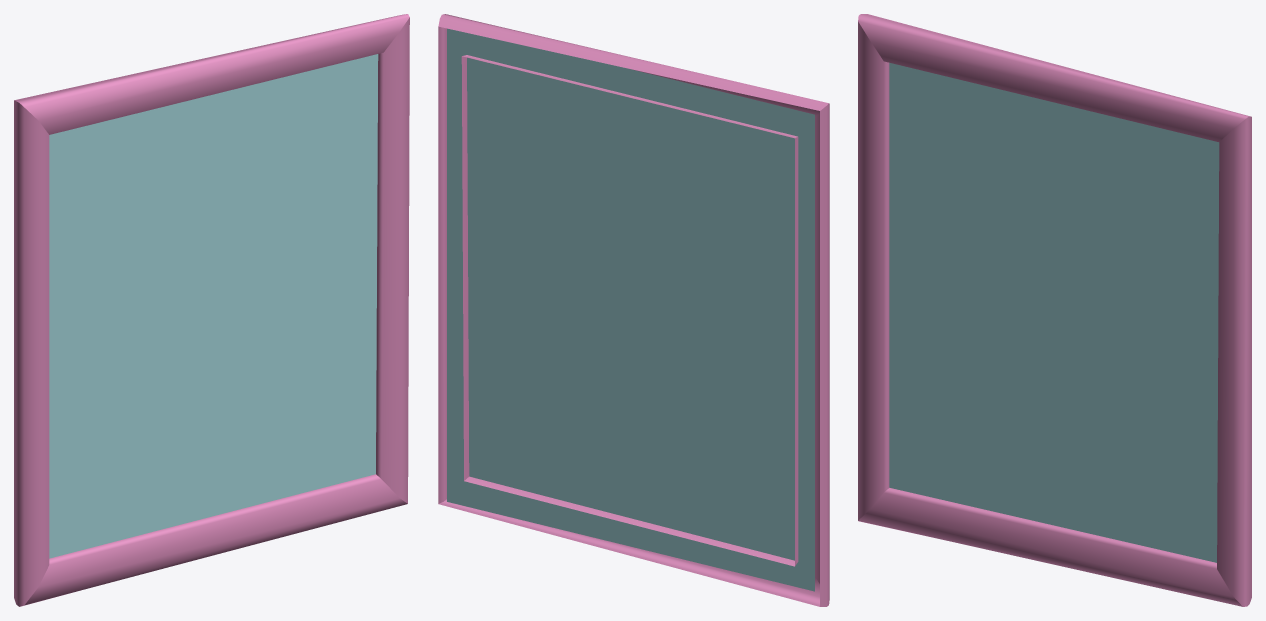
The model's file is Friday_PictureFrame2.fbx.
The picture shows the model from 3 angles, left to right: view 1: azimuth 30°, elevation 25°; view 2: azimuth 150°, elevation 25°; view 3: azimuth 330°, elevation 25°; orthographic projection.
Parts seen in each view (by area): view 1: Glass, Window; view 2: Glass, Window; view 3: Glass, Window.
Part boxes in pixels (box(x1,y1,x2,y2)): Glass: box(49, 54, 378, 558); Window: box(14, 14, 409, 606); Glass: box(447, 28, 814, 591); Window: box(438, 14, 829, 606); Glass: box(889, 62, 1219, 562); Window: box(858, 14, 1251, 606).
Bounding box in the file's own units: 162 × 200 × 7.78.
